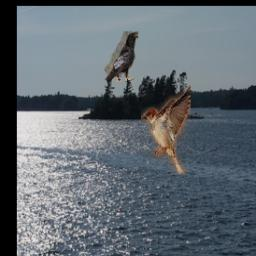Crow: (105, 31, 138, 82)
Sparrow: (142, 86, 192, 175)
